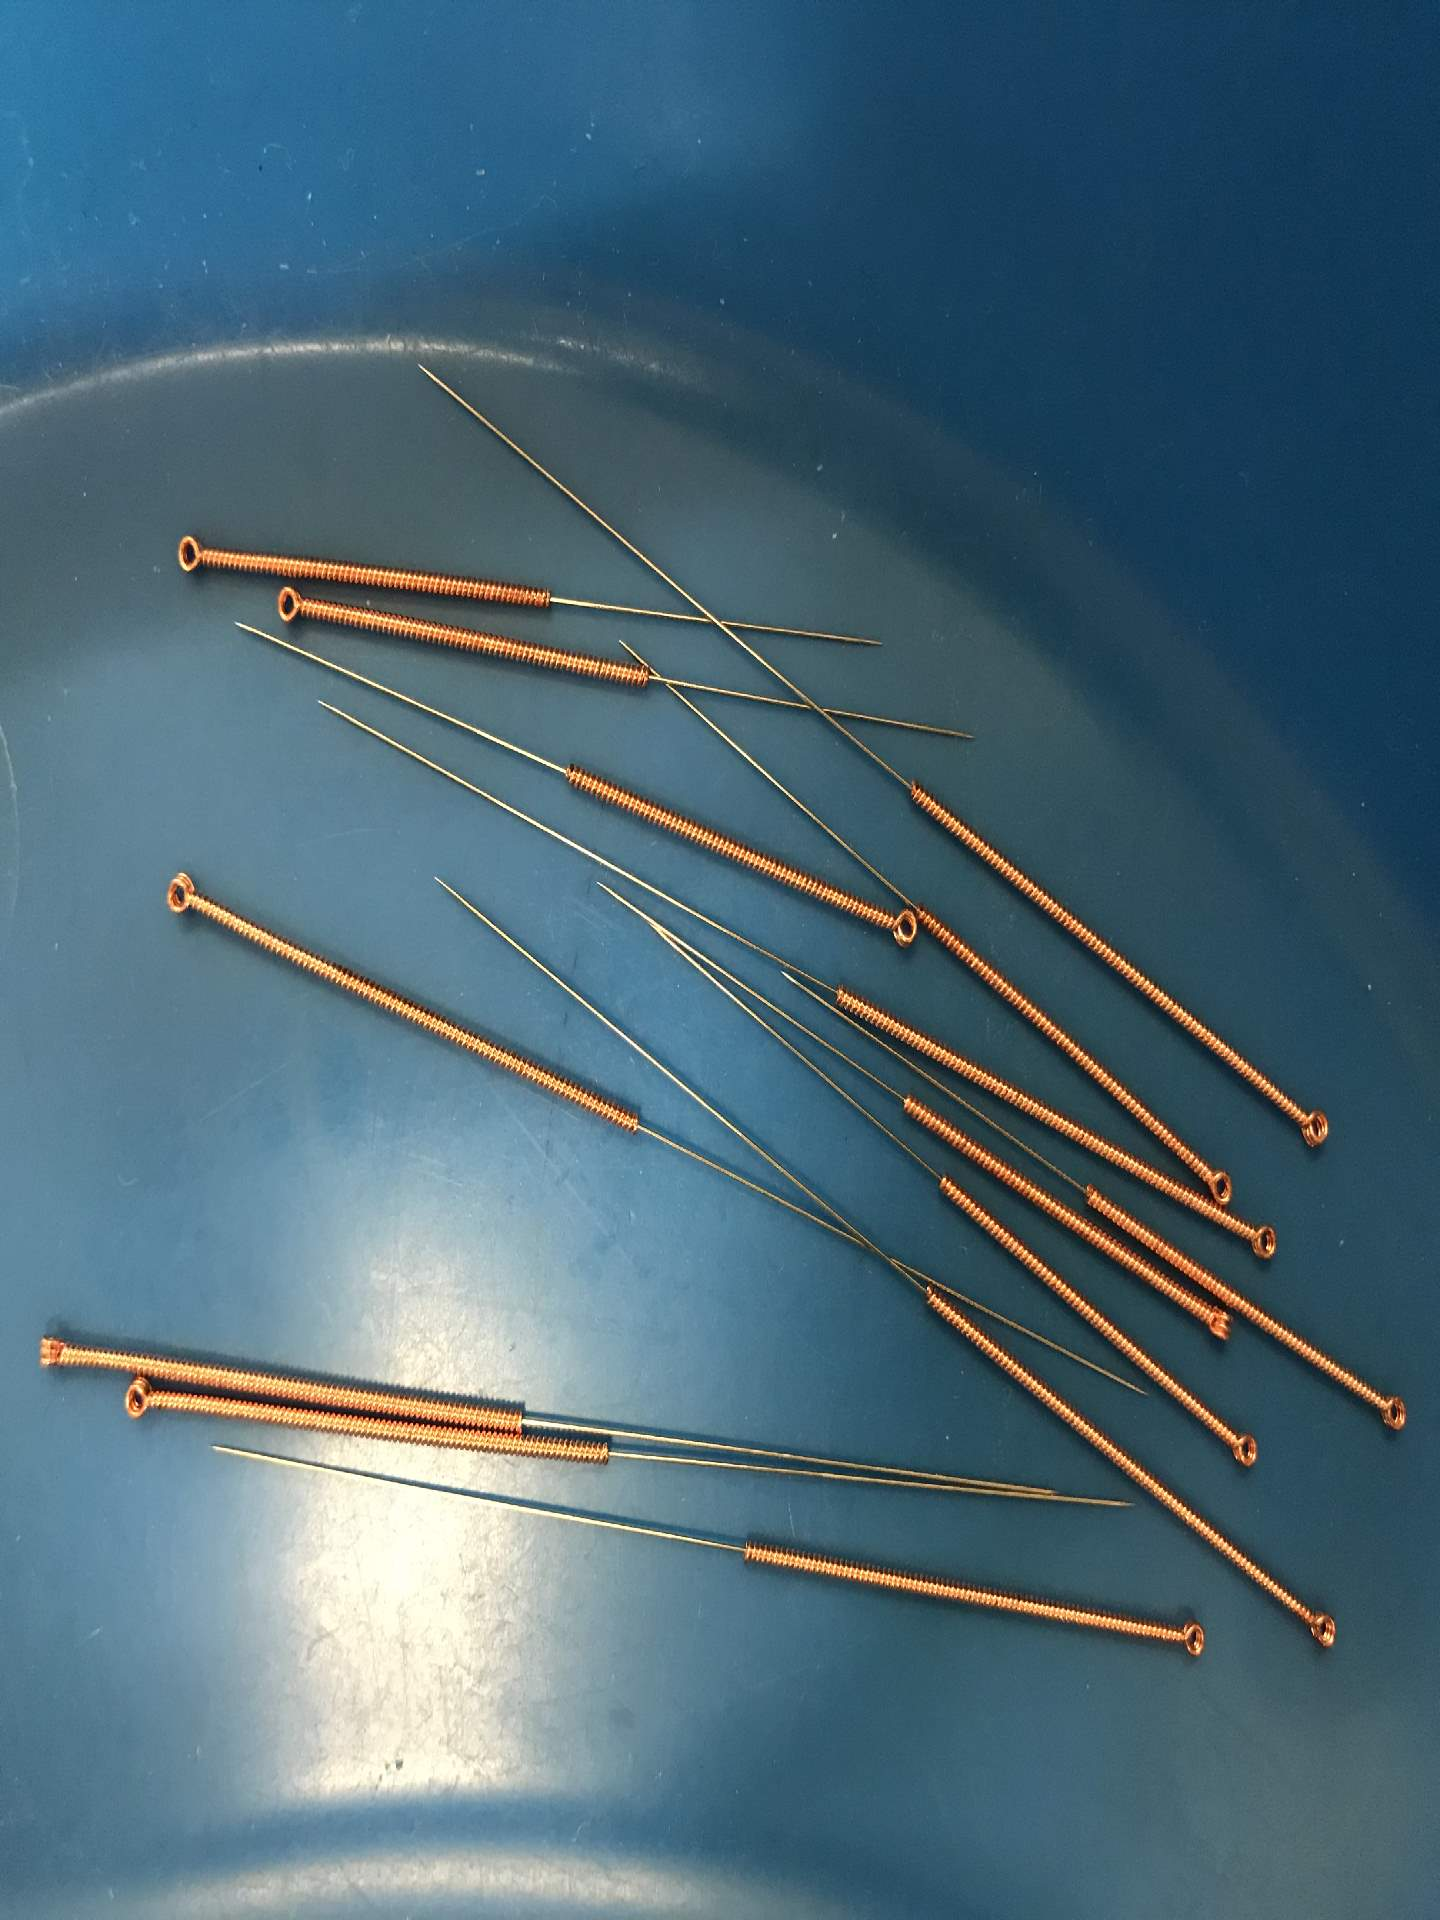needle: (1278, 1590, 1354, 1665), (147, 857, 215, 937), (17, 1318, 82, 1391), (1280, 1090, 1345, 1161), (1207, 1414, 1272, 1483), (154, 522, 219, 587), (107, 1370, 172, 1432), (1159, 1604, 1219, 1671), (1355, 1379, 1417, 1442), (256, 578, 319, 636), (1227, 1215, 1292, 1270), (870, 900, 927, 955), (1177, 1303, 1236, 1356), (1196, 1155, 1236, 1208)
